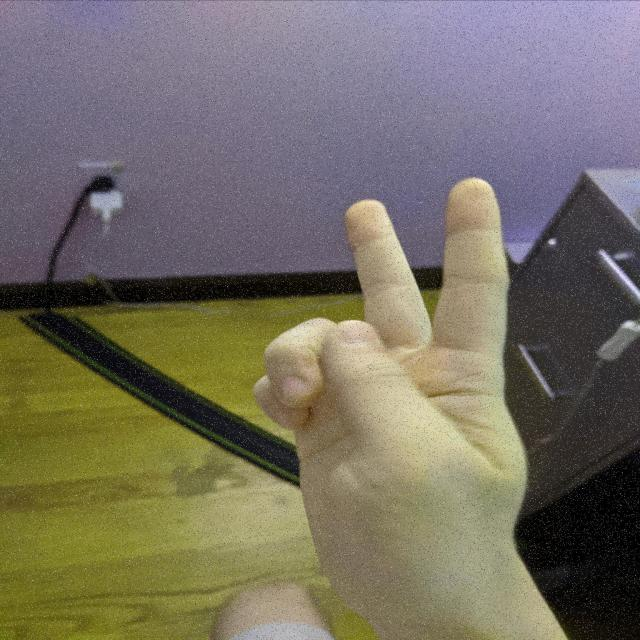K: (245, 166, 545, 614)
